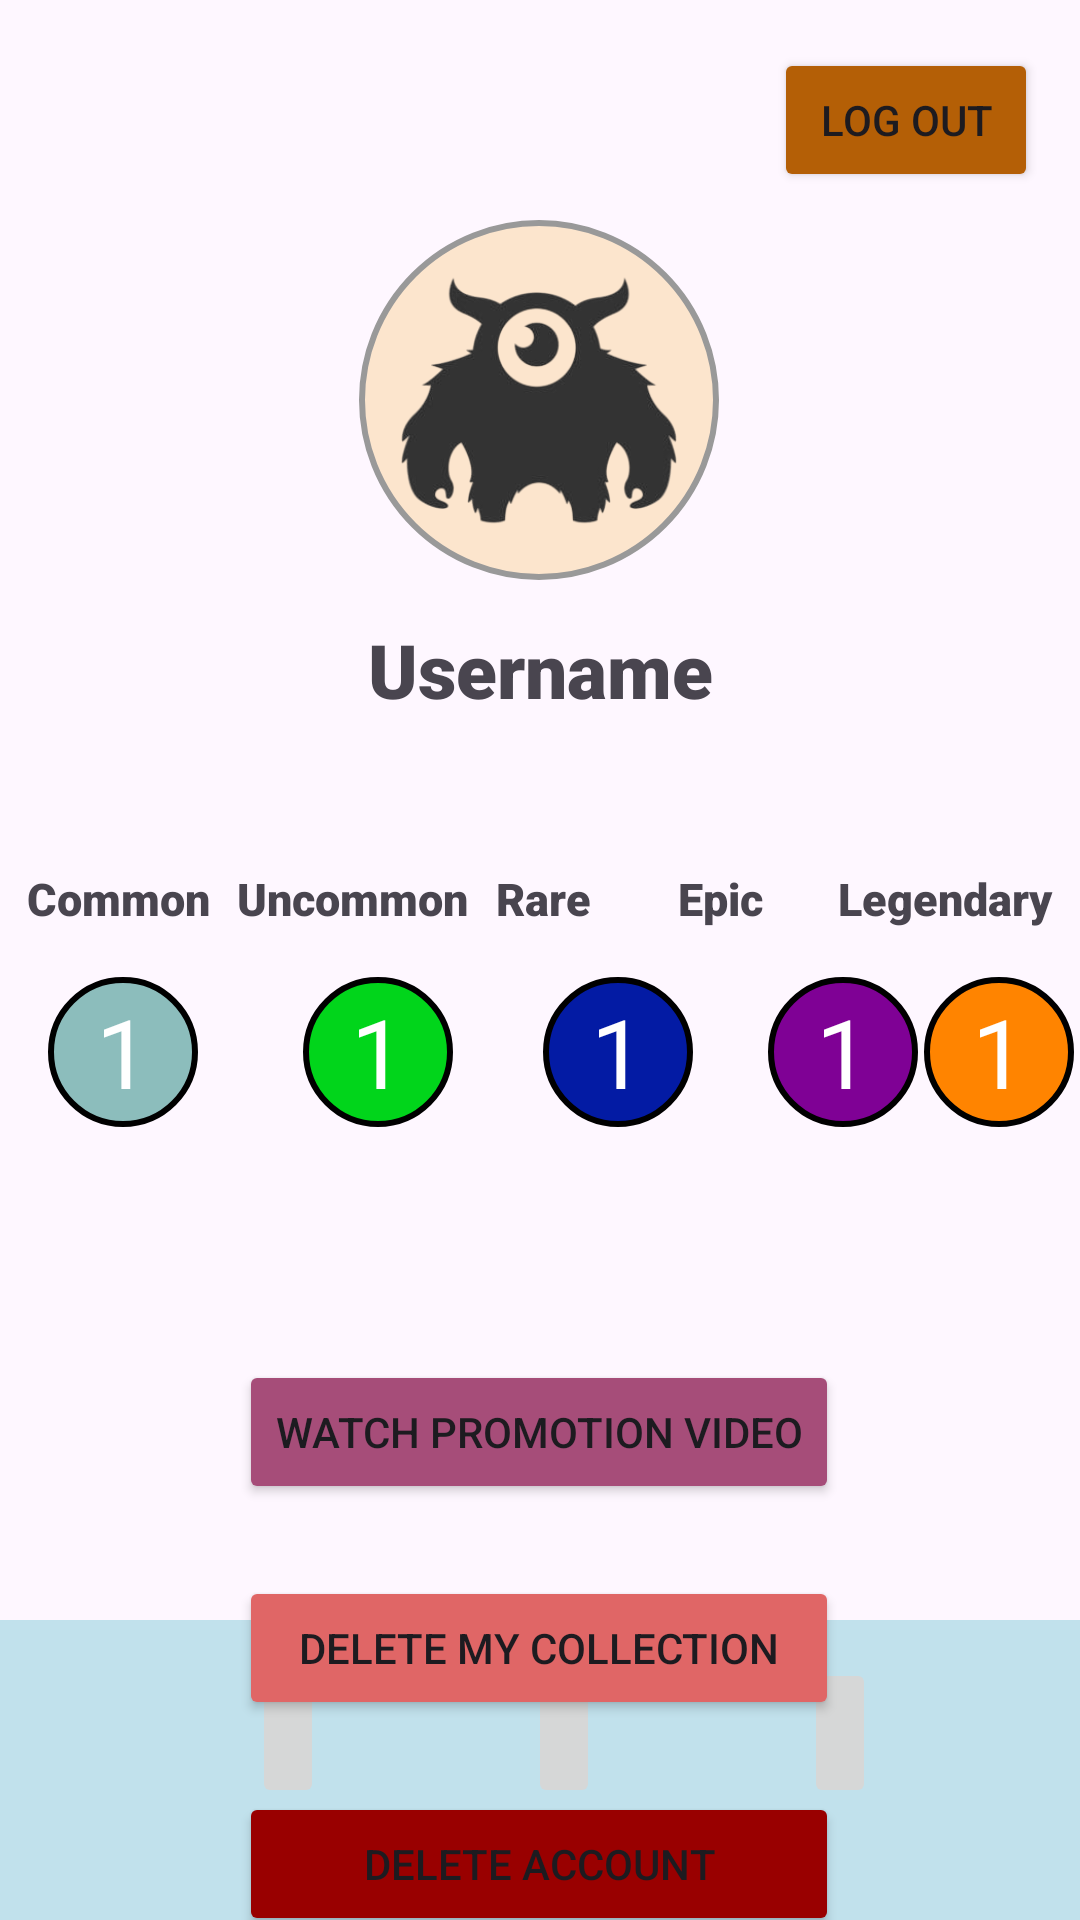

Where icons sit on this 1080 x 1920 app screen, as (x1, y1, x2, y2):
useraccount: (359, 220, 719, 580)
